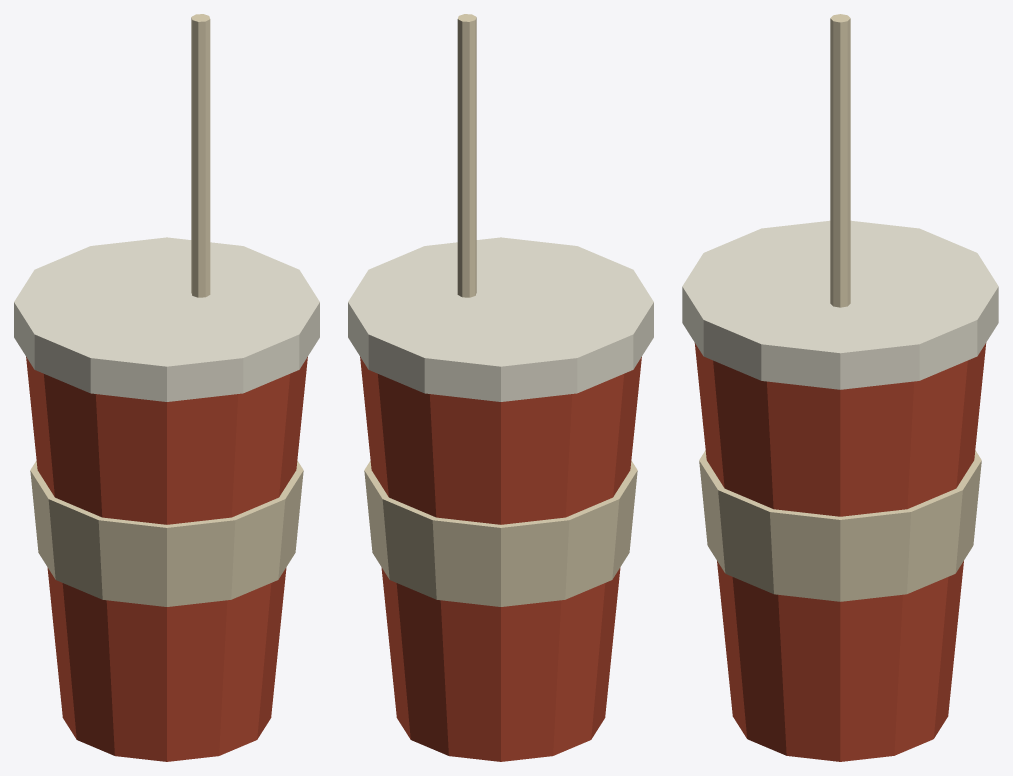
The model's file is Drink_Cola.glb.
3 views of the same model, side by side, from view 1: azimuth 30°, elevation 25°; view 2: azimuth 150°, elevation 25°; view 3: azimuth 270°, elevation 25° (orthographic). The views are drawn at different scales.
Parts seen in each view (by area): view 1: Drink_Cola; view 2: Drink_Cola; view 3: Drink_Cola.
Part boxes in pixels (x1,y1,x2,y2): Drink_Cola: (14,14,319,761); Drink_Cola: (348,14,653,761); Drink_Cola: (682,14,998,761).
Size of the model in its own units: 0.094 by 0.2345 by 0.094.
